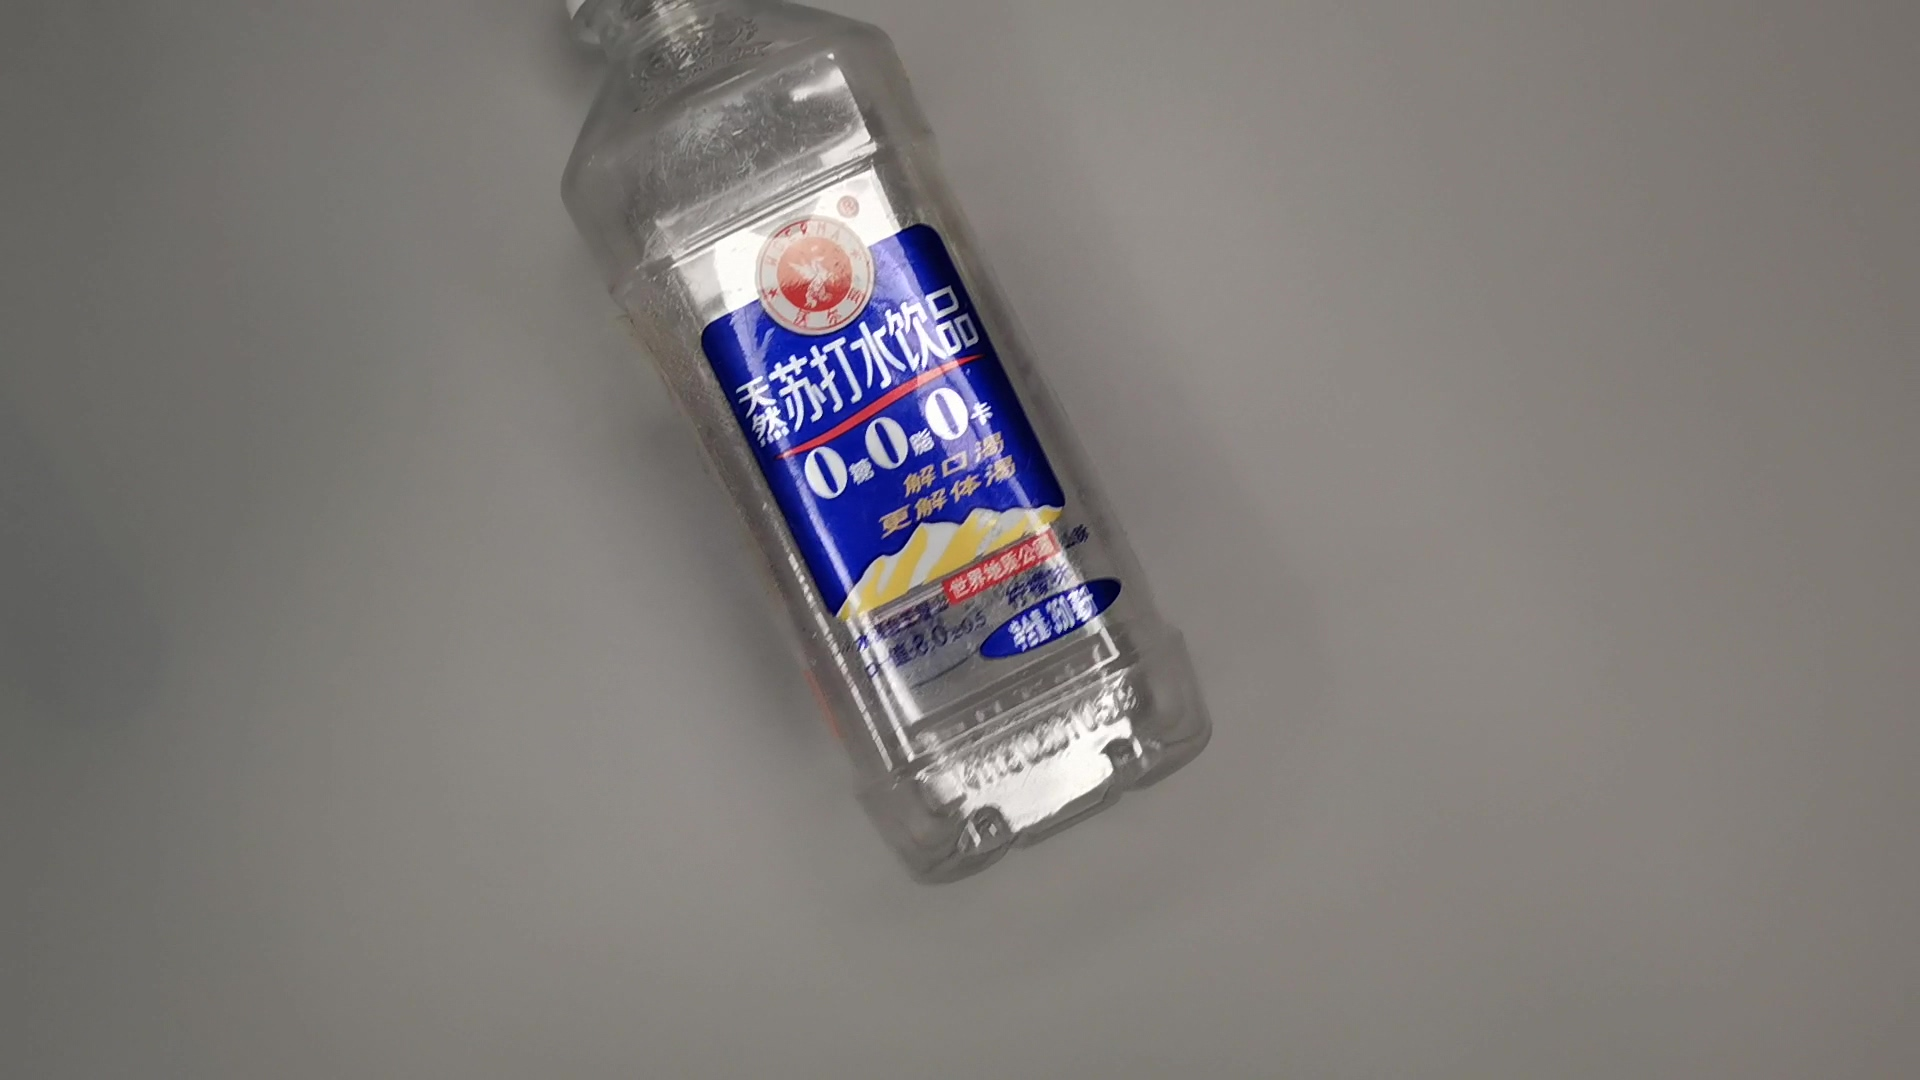bottle: (555, 1, 1222, 894)
